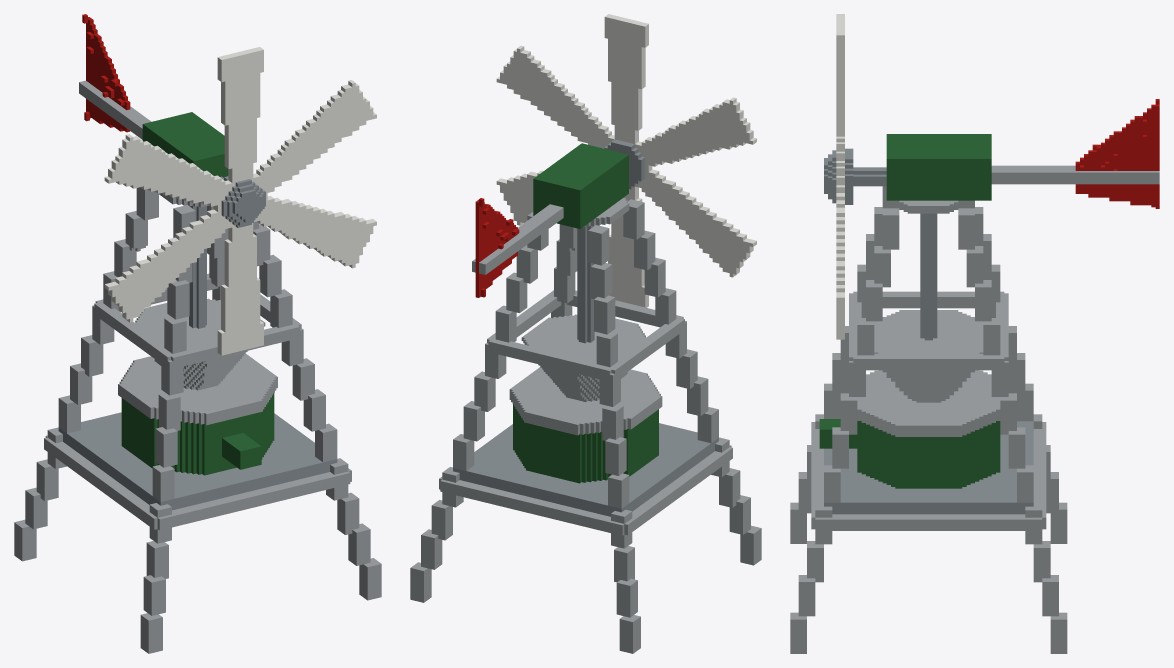
The model's file is wind_mill.glb.
3 renders of one model, left to right at view 1: azimuth 30°, elevation 25°; view 2: azimuth 150°, elevation 25°; view 3: azimuth 270°, elevation 25°, orthographic. The views are drawn at different scales.
Visible parts, largest first — view 1: wind_mill:compound; view 2: wind_mill:compound; view 3: wind_mill:compound.
Boxes of the visible parts, box(x1,y1,x2,y2) form: wind_mill:compound: box(14, 14, 381, 653); wind_mill:compound: box(410, 14, 761, 653); wind_mill:compound: box(790, 14, 1159, 653).
Bounding box in the file's own units: 0.76 × 1.5 × 0.88.
